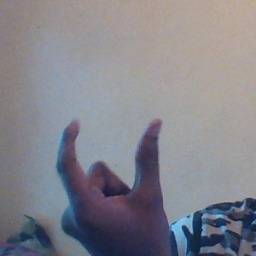U: (54, 116, 171, 247)
